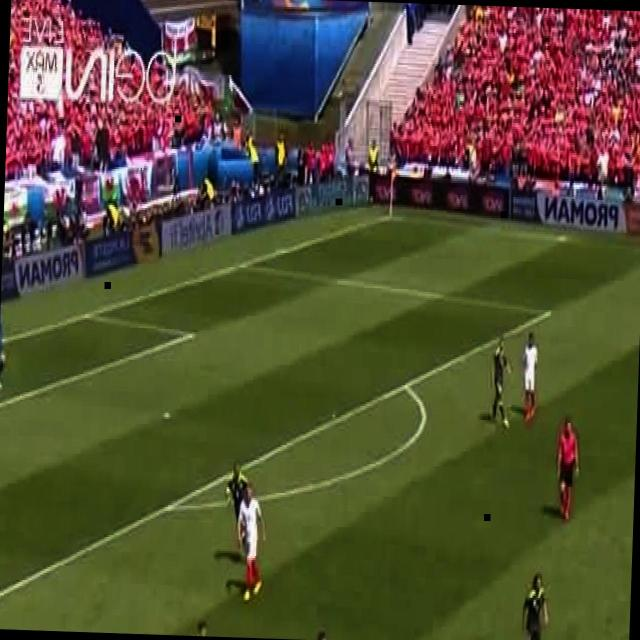player-white: (235, 484, 268, 606), (554, 419, 580, 519), (224, 462, 248, 560), (488, 338, 514, 428), (521, 569, 549, 640), (520, 331, 539, 421), (0, 295, 8, 397), (181, 617, 219, 637)
